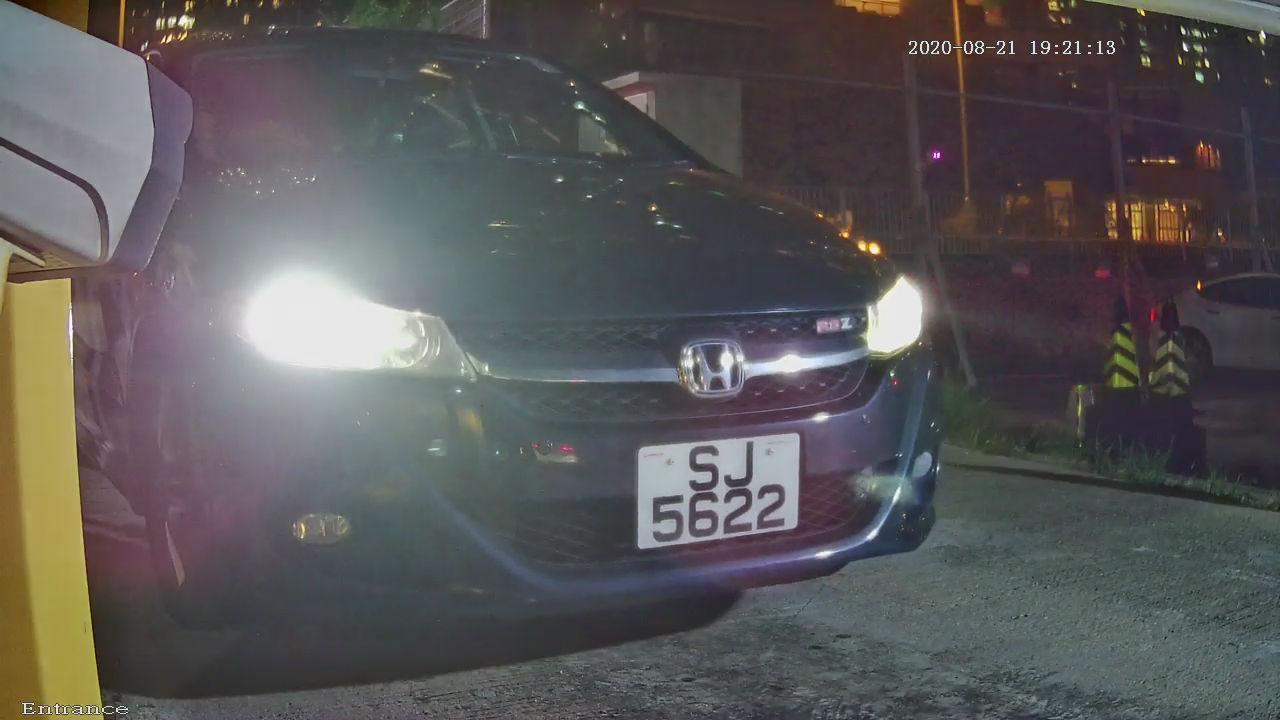Car: (12, 13, 1012, 663)
License Plate: (612, 425, 818, 557)
